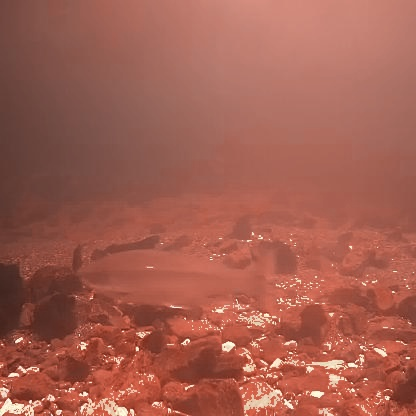salmon: (75, 236, 281, 321)
